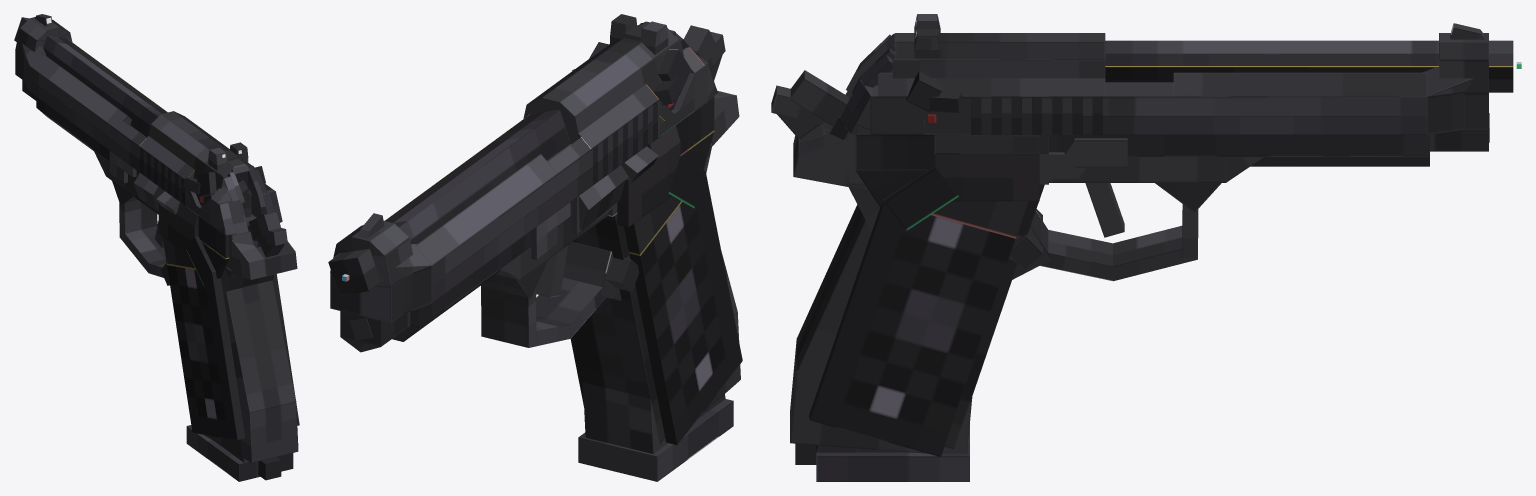
3 views of the same model, side by side, from view 1: azimuth 30°, elevation 25°; view 2: azimuth 150°, elevation 25°; view 3: azimuth 270°, elevation 25° (orthographic). The views are drawn at different scales.
Visible parts, largest first — view 1: gun_50, slide_76, magazine_3, hammer_2, _cb_stock_1; view 2: gun_50, slide_76, magazine_3, hammer_2; view 3: gun_50, slide_76, magazine_3, hammer_2.
Boxes of the visible parts, bbox=[...] form: gun_50: bbox=[14, 17, 299, 462]; slide_76: bbox=[15, 14, 282, 235]; magazine_3: bbox=[186, 425, 293, 481]; hammer_2: bbox=[247, 211, 287, 257]; _cb_stock_1: bbox=[258, 457, 281, 480]; gun_50: bbox=[328, 91, 742, 453]; slide_76: bbox=[330, 14, 717, 352]; magazine_3: bbox=[578, 394, 733, 481]; hammer_2: bbox=[683, 25, 725, 80]; gun_50: bbox=[790, 40, 1513, 456]; slide_76: bbox=[844, 14, 1488, 151]; magazine_3: bbox=[816, 424, 969, 481]; hammer_2: bbox=[771, 70, 849, 139].
Size of the model in its own units: 0.2852 by 1.15 by 1.79.
